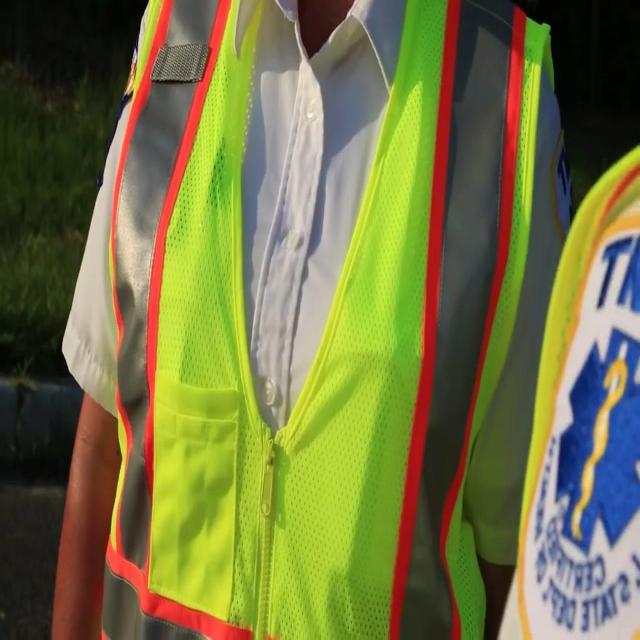Reflective-Jacket: (51, 7, 570, 633), (511, 94, 640, 639)
